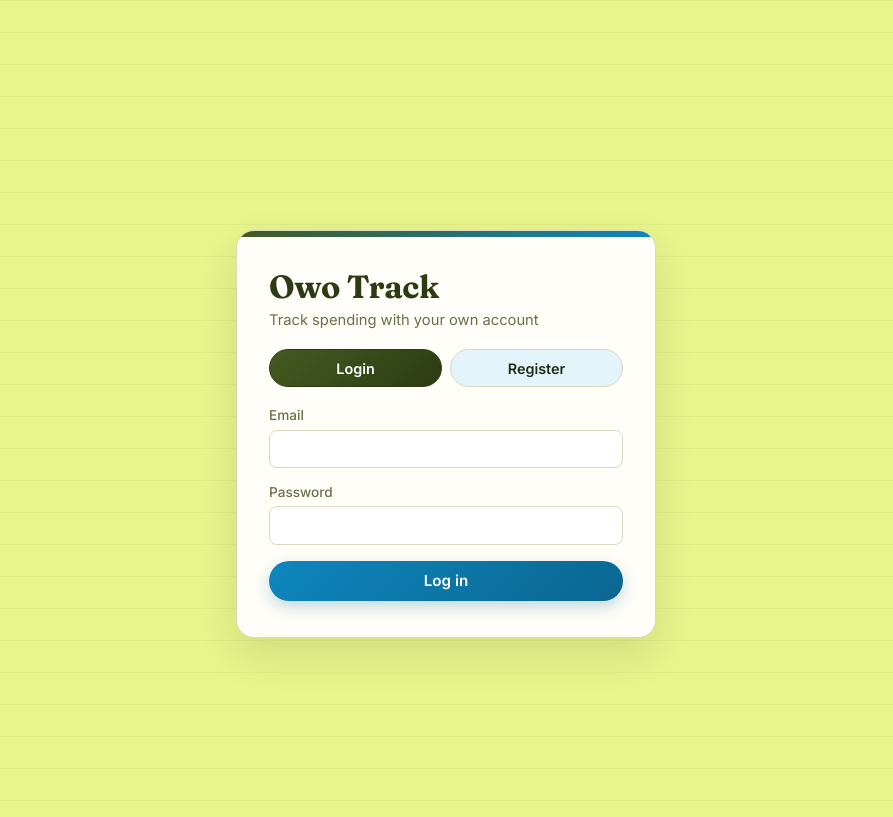
Test: App auth flow › shows the submitter's short name on a pending-approval item
The image size is (893, 817).
Expected: the heading "Owo Track" is shown, [269,267,439,306]
Type "ada@owo.com" into the field labelled "Email" at (446, 449), box [269,430,623,468]
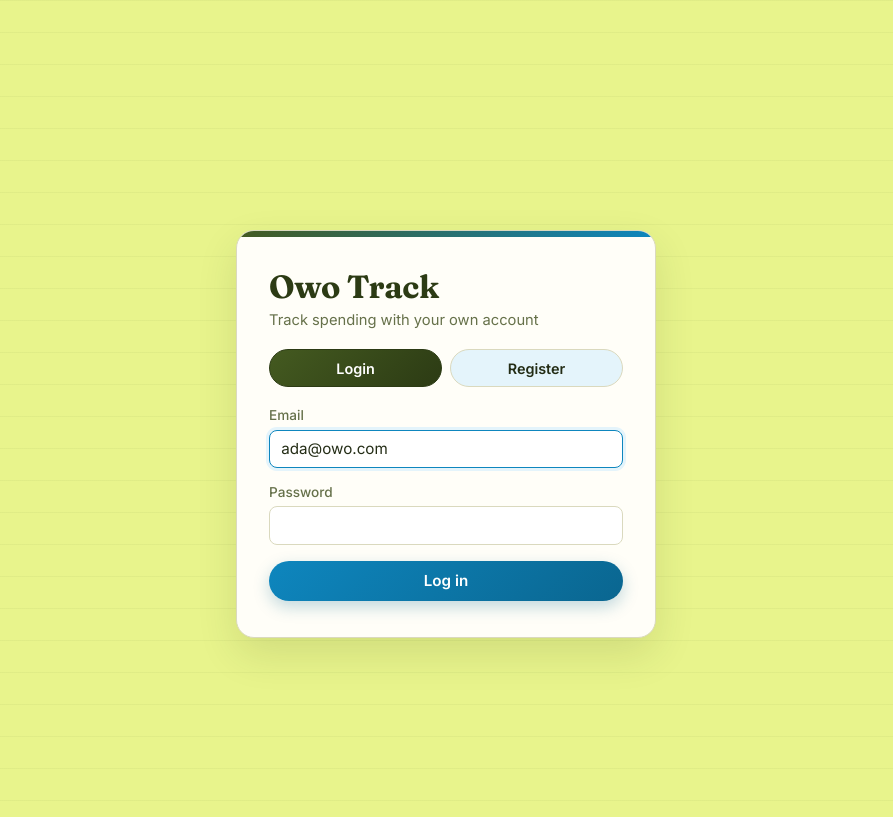
Type "password123" into the password field labelled "Password" at (446, 526), box [269,506,623,545]
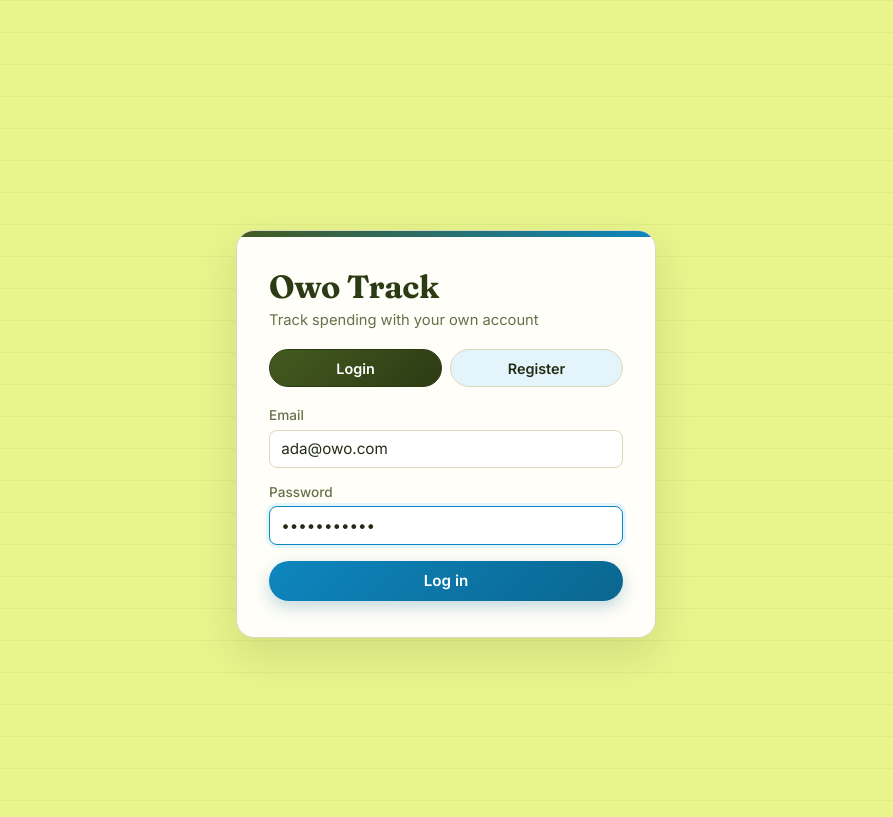
Click the button "Log in" at (446, 581), box [269,561,623,601]
(page scrolled)
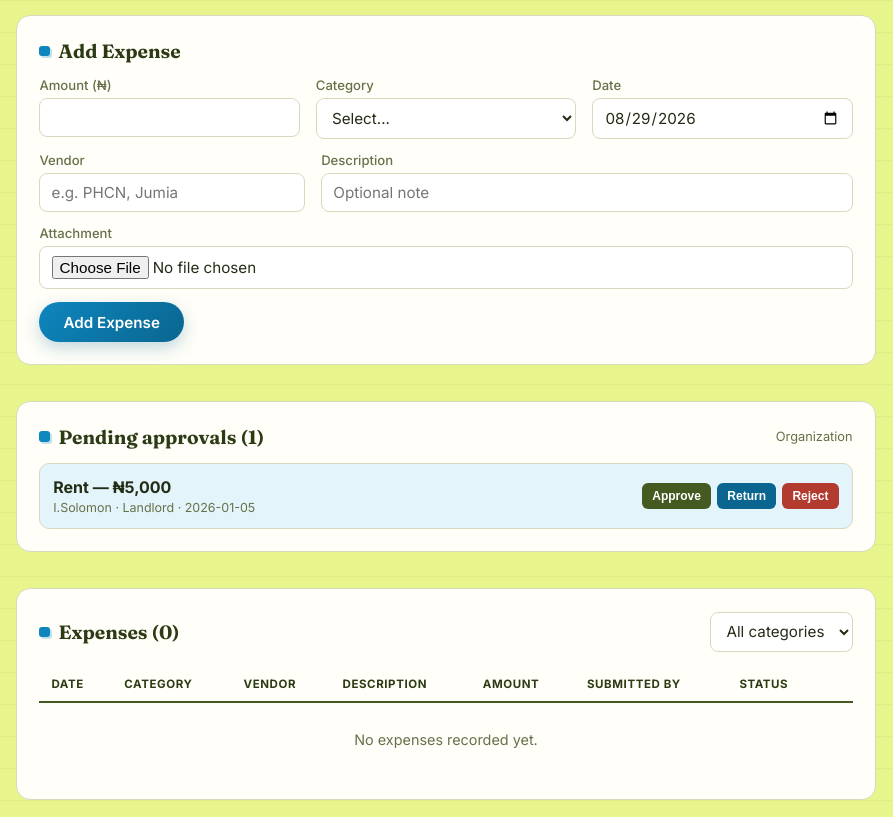
Now the text "I.Solomon · Landlord · 2026-01-05" is shown, box [53,500,255,515]
